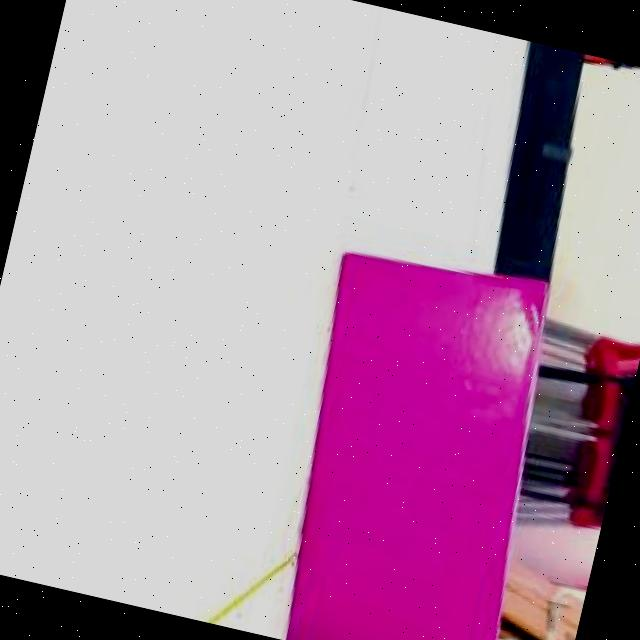xparking: (270, 247, 559, 640)
